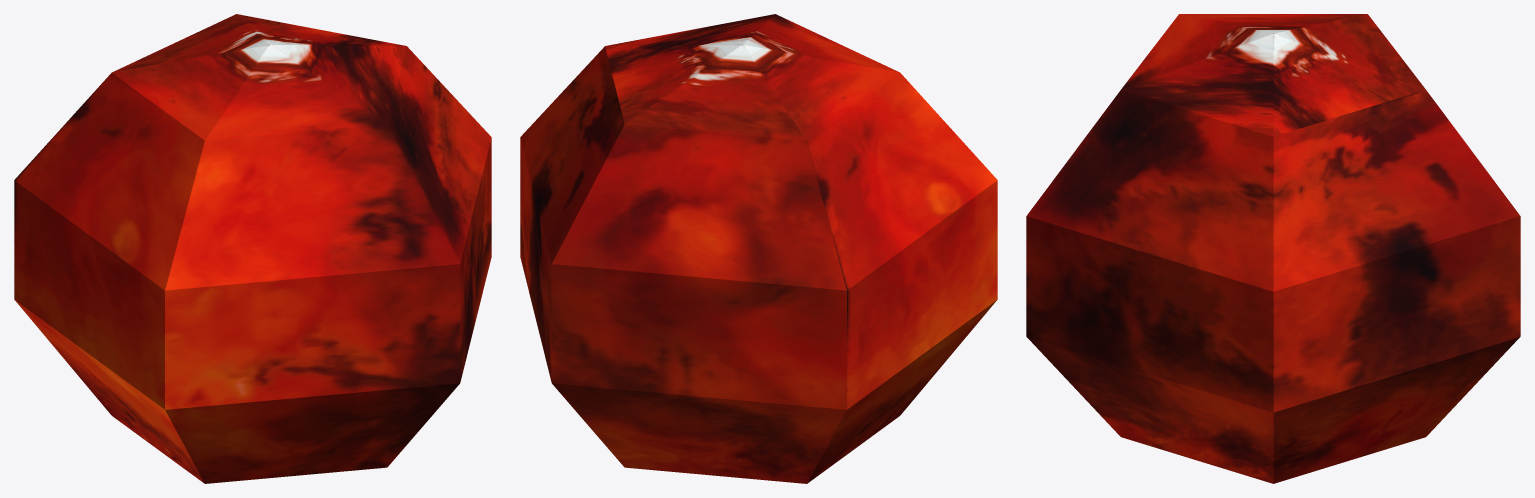
Rendered from mars.fbx.
The picture shows the model from 3 angles, left to right: view 1: azimuth 30°, elevation 25°; view 2: azimuth 150°, elevation 25°; view 3: azimuth 270°, elevation 25°; orthographic projection.
Visible parts, largest first — view 1: pSphere1; view 2: pSphere1; view 3: pSphere1.
Part boxes in pixels (box(x1,y1,x2,y2)): pSphere1: box(14, 14, 491, 483); pSphere1: box(520, 14, 997, 483); pSphere1: box(1026, 14, 1520, 483).
Bounding box in the file's own units: 3.06 × 3.01 × 3.22.
1 material, 1 textured.
